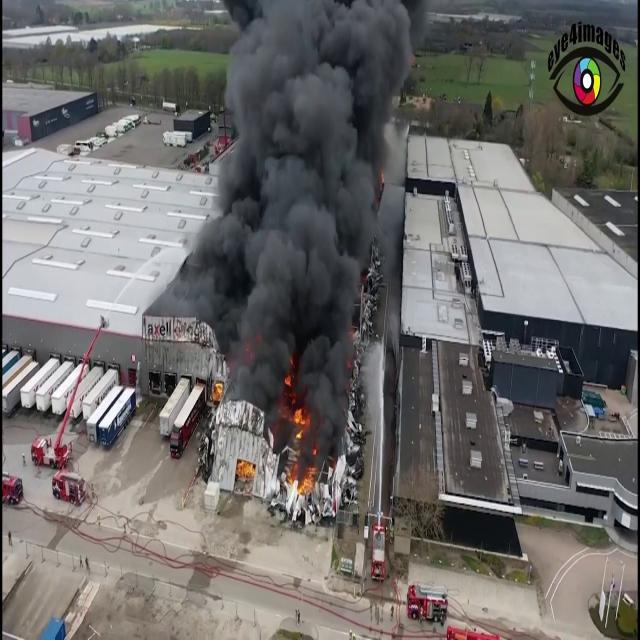Fire: (281, 400, 321, 500)
Smoke: (155, 0, 422, 438)
